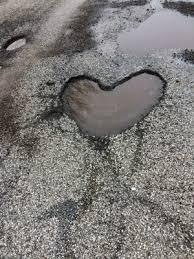pothole: (54, 64, 168, 150), (110, 4, 194, 64), (0, 31, 35, 54)
